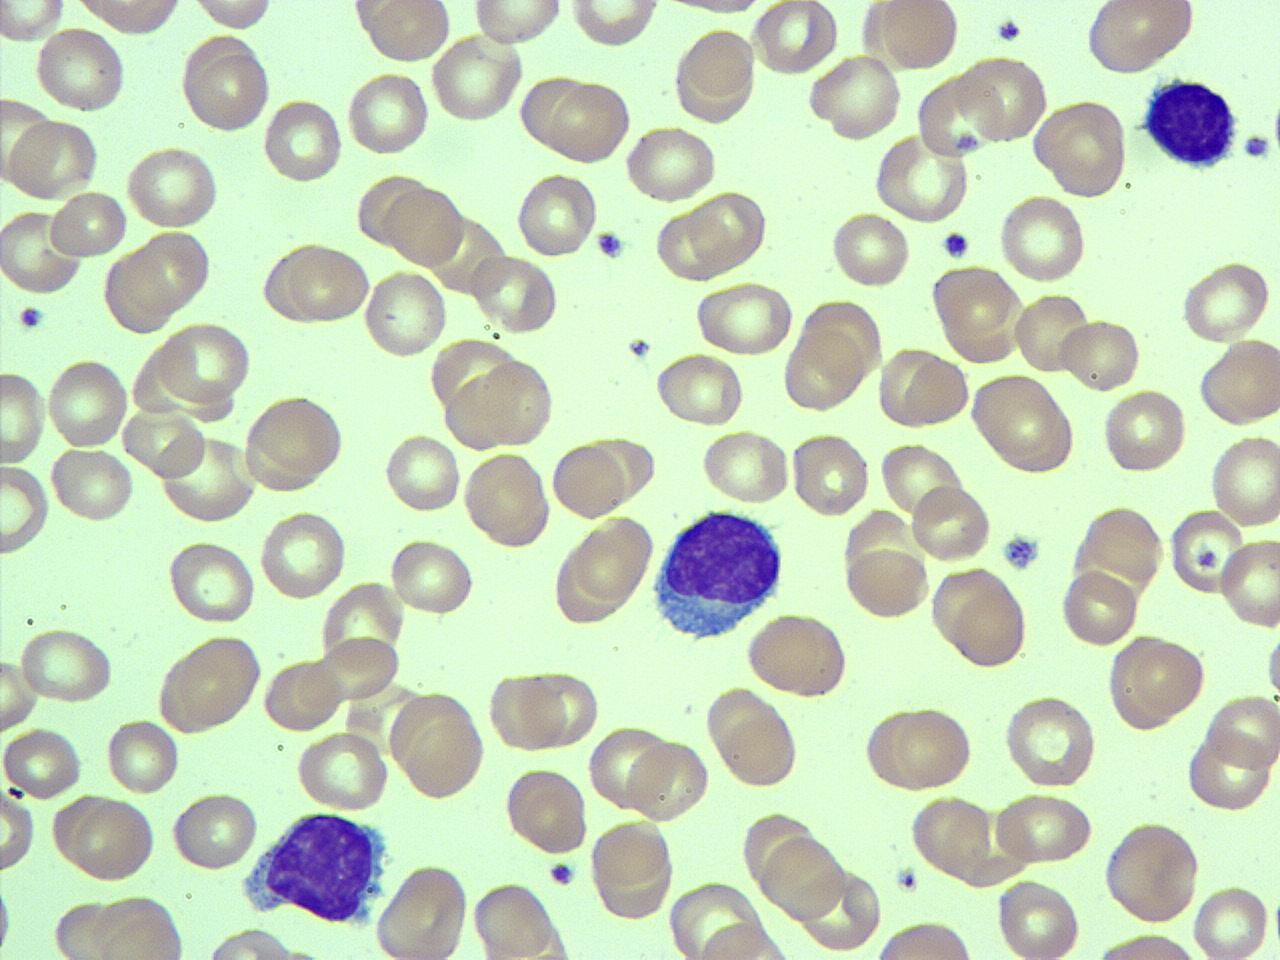Platelets: (998, 529, 1043, 575), (593, 227, 629, 261), (1237, 129, 1273, 162), (940, 229, 972, 261), (545, 858, 578, 888), (16, 303, 48, 332), (994, 16, 1024, 44), (625, 336, 654, 358)
RBC: (154, 630, 266, 736), (386, 688, 489, 803), (970, 370, 1078, 476), (1102, 816, 1202, 926), (928, 564, 1031, 671), (240, 391, 347, 493), (702, 684, 802, 790), (860, 702, 976, 793), (1104, 632, 1208, 730), (1031, 98, 1131, 200), (50, 793, 158, 884), (744, 609, 852, 701), (178, 32, 273, 136), (371, 862, 471, 960), (871, 130, 973, 226), (462, 449, 556, 551), (1000, 692, 1099, 788), (586, 817, 676, 921), (161, 431, 256, 526), (31, 23, 128, 117), (429, 32, 528, 124), (467, 353, 559, 450), (670, 25, 760, 124), (258, 506, 350, 602), (1177, 256, 1275, 346), (805, 55, 904, 144), (1082, 1, 1198, 76), (3, 115, 104, 201), (956, 52, 1049, 145), (124, 142, 222, 230), (44, 354, 131, 453), (997, 192, 1089, 284), (569, 510, 656, 608), (155, 320, 255, 404), (363, 265, 450, 362), (502, 762, 590, 856), (164, 538, 258, 626), (293, 730, 391, 814), (17, 624, 117, 706), (876, 345, 970, 432), (1102, 386, 1190, 477), (781, 322, 866, 416), (692, 279, 795, 357), (344, 69, 432, 158), (759, 831, 847, 922), (992, 790, 1096, 866), (513, 168, 600, 260), (470, 878, 566, 960), (468, 250, 560, 335), (916, 63, 1000, 156), (624, 122, 720, 204), (0, 206, 84, 297), (626, 735, 711, 825), (908, 792, 992, 882), (47, 444, 138, 526), (386, 536, 477, 619), (789, 428, 872, 518), (283, 240, 371, 325), (928, 262, 1018, 345), (994, 876, 1084, 958), (1208, 430, 1280, 532), (546, 77, 630, 164), (486, 666, 568, 754), (171, 792, 260, 874), (1198, 336, 1278, 428), (586, 723, 668, 811), (261, 96, 344, 184), (1166, 507, 1246, 598), (699, 428, 792, 505), (654, 350, 747, 428), (119, 403, 210, 482), (385, 182, 466, 269), (878, 438, 966, 518), (134, 226, 214, 314), (89, 890, 188, 960), (829, 209, 912, 292), (1012, 289, 1092, 376), (686, 189, 767, 273), (382, 432, 463, 516), (843, 543, 929, 621), (1058, 314, 1142, 394), (752, 0, 841, 76), (1189, 880, 1273, 960), (1057, 568, 1139, 648), (1, 724, 84, 802), (46, 185, 129, 262), (526, 666, 602, 750), (909, 484, 991, 562), (260, 656, 344, 732), (354, 2, 453, 66), (550, 440, 626, 522), (105, 715, 181, 796), (1204, 691, 1280, 772), (516, 68, 588, 151), (652, 207, 730, 283), (1219, 532, 1279, 630), (877, 1, 962, 71), (0, 369, 51, 468), (0, 462, 52, 557), (566, 0, 662, 51), (870, 918, 983, 960), (469, 0, 564, 48), (72, 0, 190, 36), (194, 925, 314, 960), (693, 922, 798, 960), (0, 782, 38, 877), (1090, 931, 1204, 960), (0, 655, 39, 735), (187, 0, 278, 33), (0, 0, 68, 44)
WBC: (648, 505, 788, 646), (239, 804, 392, 930), (1137, 74, 1241, 172)
